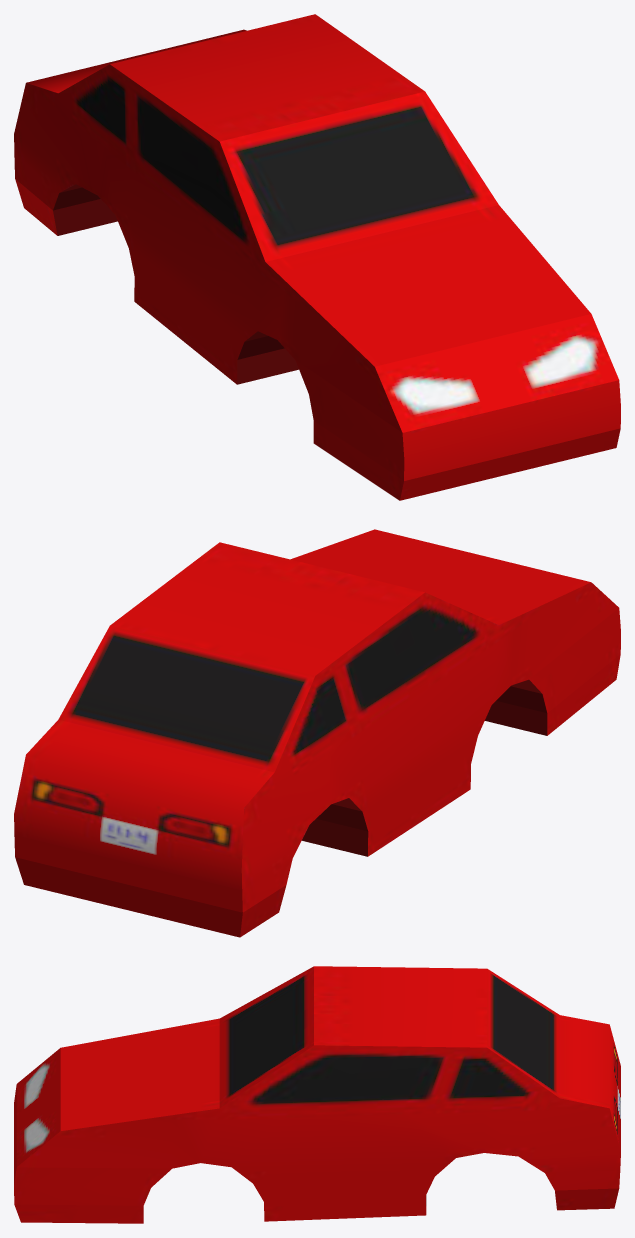
File: runner_mesh.fbx
3 views of the same model, one above another, from view 1: azimuth 30°, elevation 25°; view 2: azimuth 150°, elevation 25°; view 3: azimuth 270°, elevation 25° (orthographic). The views are drawn at different scales.
Parts seen in each view (by area): view 1: pCube1; view 2: pCube1; view 3: pCube1.
Part boxes in pixels (<box>): pCube1: <box>14,14,620,500</box>; pCube1: <box>14,529,620,937</box>; pCube1: <box>14,966,620,1223</box>.
Bounding box in the file's own units: 4.43 × 4.02 × 12.63.
